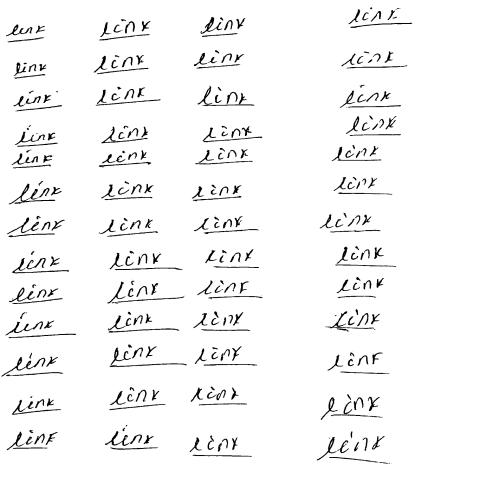Link: (319, 394, 380, 421), (106, 280, 164, 305), (3, 356, 61, 379), (3, 217, 66, 238), (95, 86, 157, 107), (98, 18, 152, 42), (8, 184, 64, 207), (90, 54, 148, 76), (349, 8, 407, 30), (108, 388, 163, 411), (339, 89, 399, 110), (8, 284, 65, 306), (345, 115, 399, 138), (340, 50, 402, 70), (99, 218, 157, 239), (333, 246, 388, 268), (196, 87, 253, 108), (194, 312, 251, 333), (6, 429, 58, 452), (103, 429, 157, 451), (108, 252, 166, 272), (191, 50, 246, 71), (193, 215, 250, 235), (100, 181, 156, 201), (12, 255, 68, 275), (202, 125, 263, 143), (329, 309, 380, 330), (196, 148, 253, 166), (98, 150, 152, 169), (13, 91, 61, 112), (199, 17, 247, 38), (190, 184, 242, 203), (101, 126, 152, 145), (11, 397, 57, 416), (332, 177, 379, 195), (331, 146, 380, 163), (10, 153, 56, 171), (7, 25, 47, 45), (15, 130, 57, 149), (13, 62, 50, 81)
